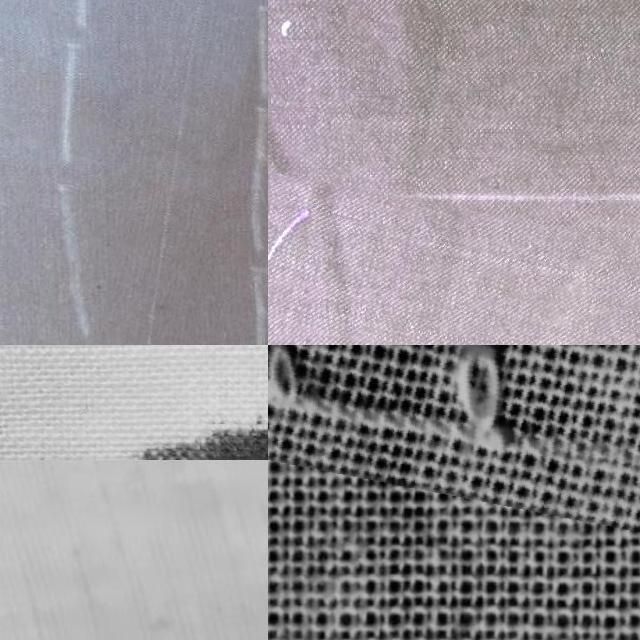stains: (268, 345, 640, 543), (268, 200, 640, 345), (94, 0, 250, 345)
